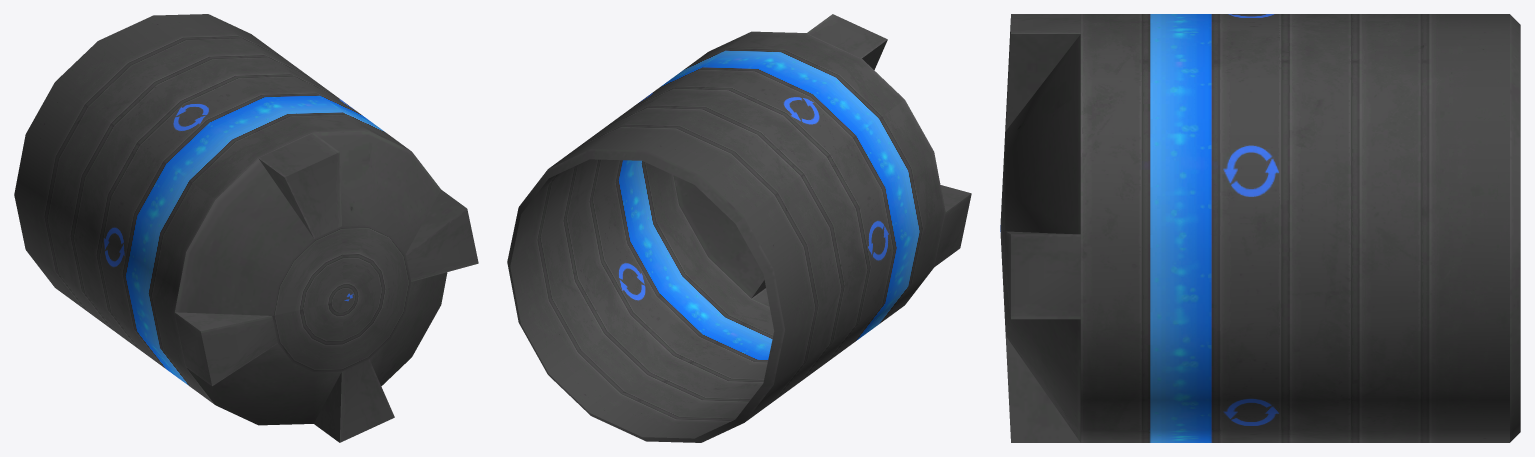
The model's file is nt_water_barrel_LOD1.obj.
3 views of the same model, side by side, from view 1: azimuth 30°, elevation 25°; view 2: azimuth 150°, elevation 25°; view 3: azimuth 270°, elevation 25° (orthographic). The views are drawn at different scales.
Parts seen in each view (by area): view 1: mtl_nt_water_barrel; view 2: mtl_nt_water_barrel; view 3: mtl_nt_water_barrel.
Part boxes in pixels (x1,y1,x2,y2): mtl_nt_water_barrel: (14,14,478,442); mtl_nt_water_barrel: (507,14,971,442); mtl_nt_water_barrel: (1000,14,1520,442).
Bounding box in the file's own units: 102 × 102 × 123.
